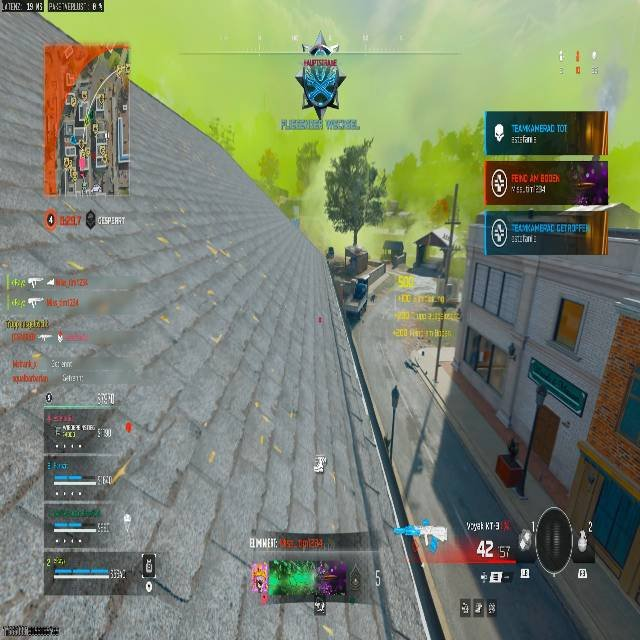head: (340, 142, 370, 168)
player: (322, 142, 384, 251), (297, 38, 343, 119), (325, 246, 335, 271)
